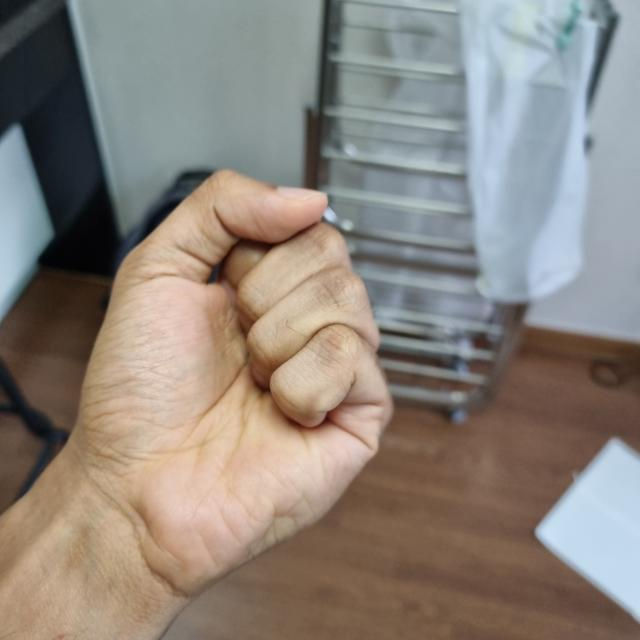Rock: (65, 169, 388, 587)
